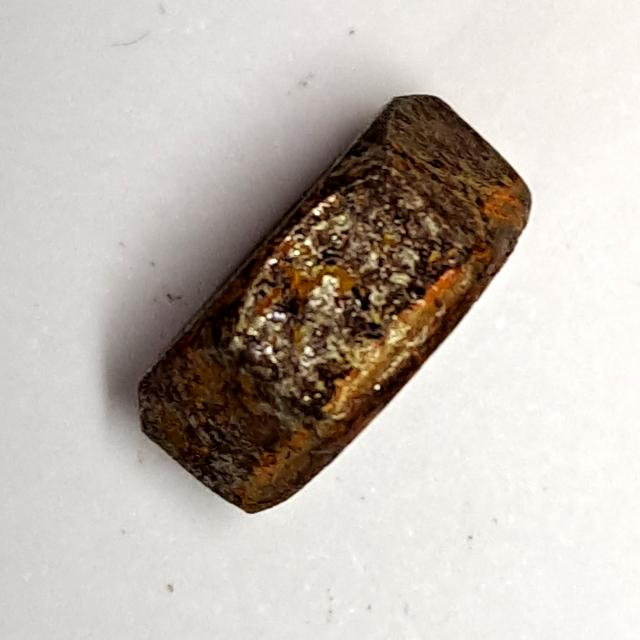Side_Rust: (132, 70, 553, 528)
